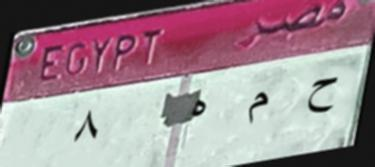7aa: (300, 68, 346, 124)
8: (72, 106, 100, 144)
haa: (190, 93, 212, 120)
meem: (236, 86, 274, 130)
